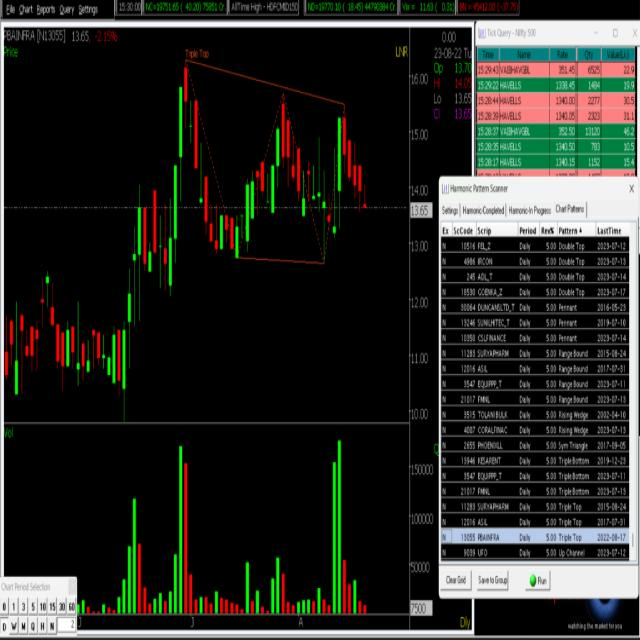Triple-Top: (152, 81, 376, 252)
